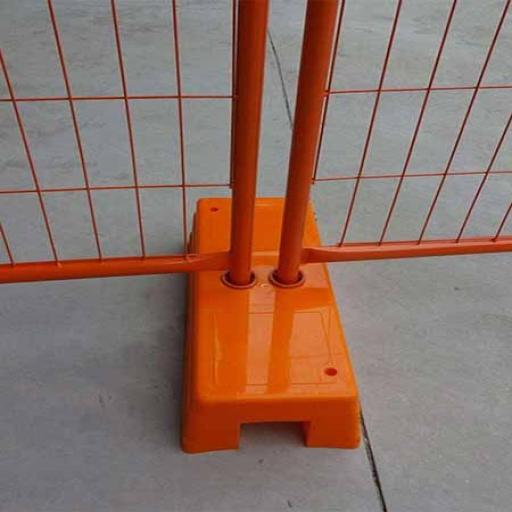bus_stop: (0, 0, 276, 468), (265, 0, 512, 452)
